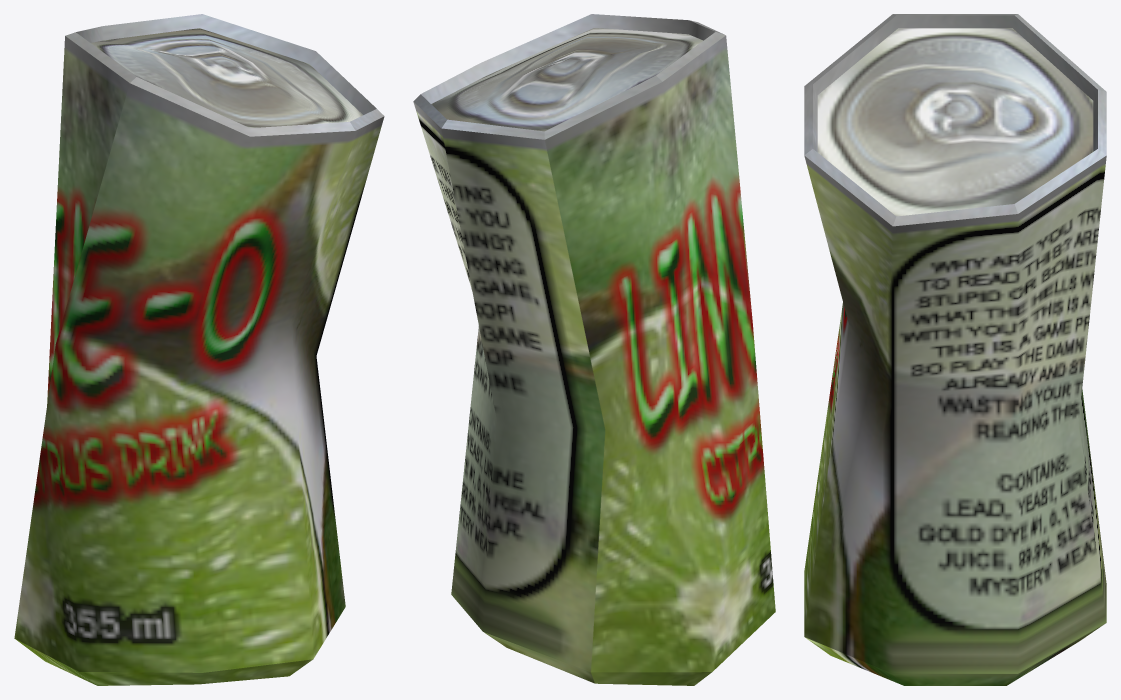
The model's file is popcan_crushed_lowres.fbx.
3 renders of one model, left to right at view 1: azimuth 30°, elevation 25°; view 2: azimuth 150°, elevation 25°; view 3: azimuth 270°, elevation 25°, orthographic. The views are drawn at different scales.
Visible parts, largest first — view 1: popcan; view 2: popcan; view 3: popcan.
Boxes of the visible parts, x1,y1,x2,y2 form: popcan: (14, 14, 384, 685); popcan: (413, 14, 775, 685); popcan: (804, 14, 1106, 685).
Bounding box in the file's own units: 0.0835 × 0.1614 × 0.074.
